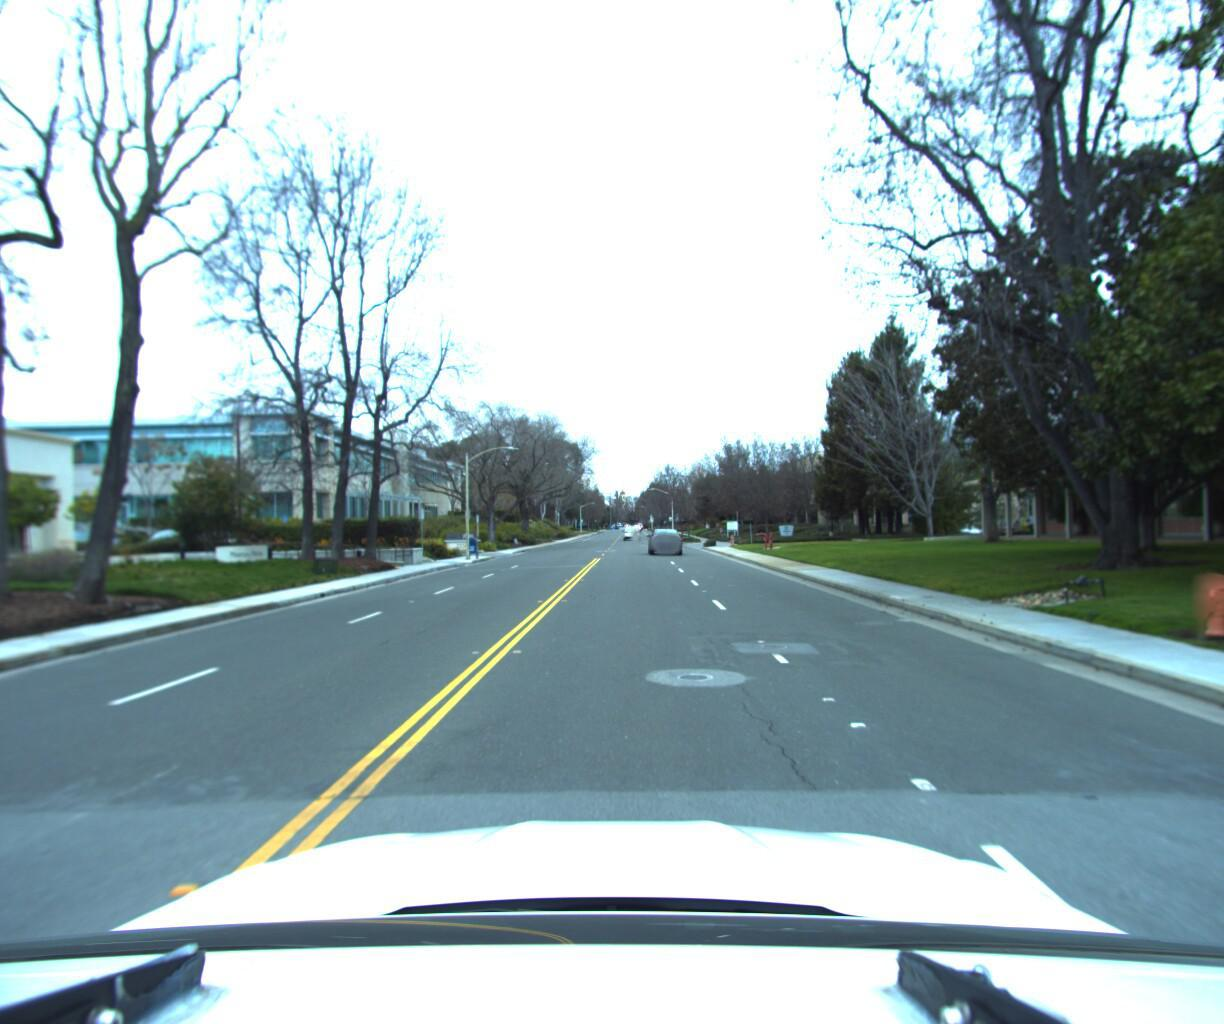car: (645, 527, 682, 553)
